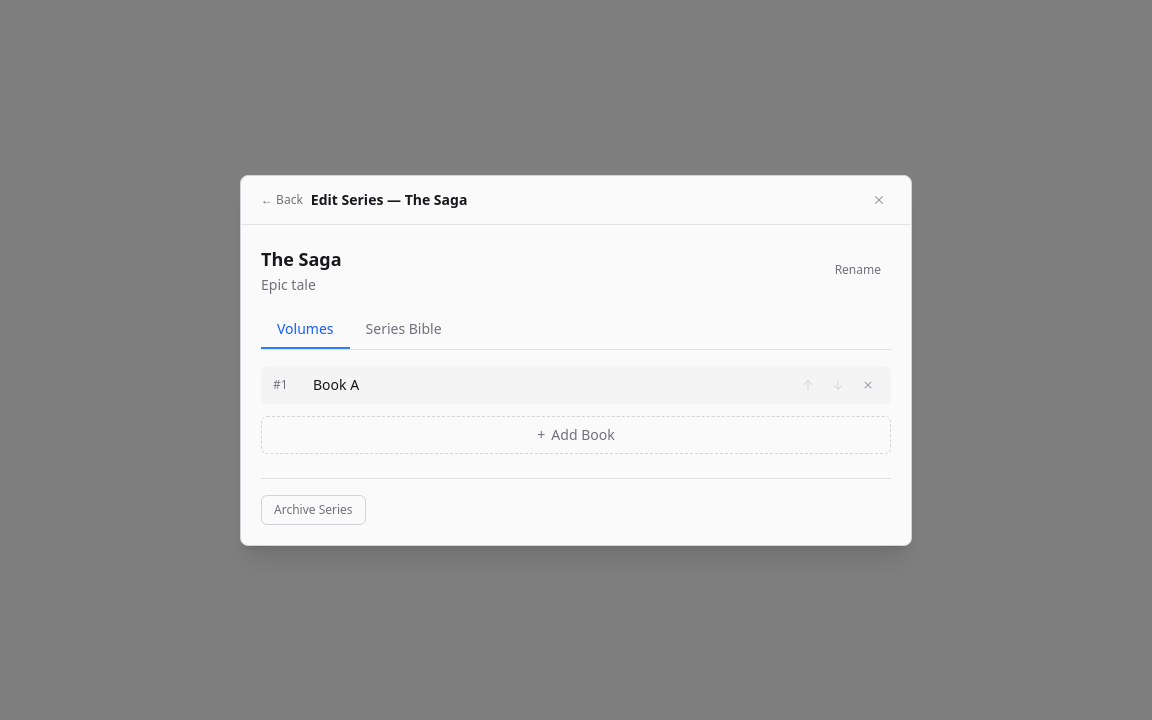
Test: SeriesModal › edit mode shows volumes and switches to the bible editor
Expected: the heading "Edit Series — The Saga" is shown, [311,190,467,210]
Expected: the text "Book A" is shown, [313,374,359,394]
What coordinates should you click on to do the following:
click the button "Series Bible"
I would click on:
 (404, 330)
Its box is [350,310,458,348].
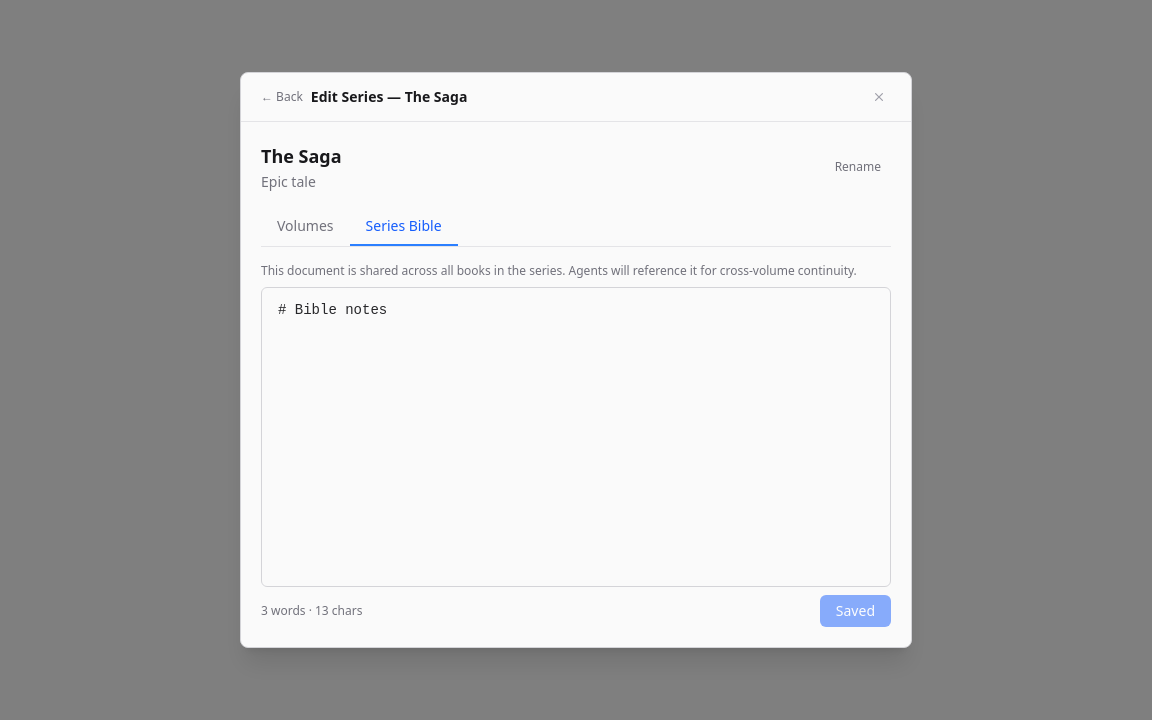
Now the text box showing "# Bible notes" is shown, box [261,287,891,587]
Now the button "Saved" is disabled, box [820,595,891,627]
